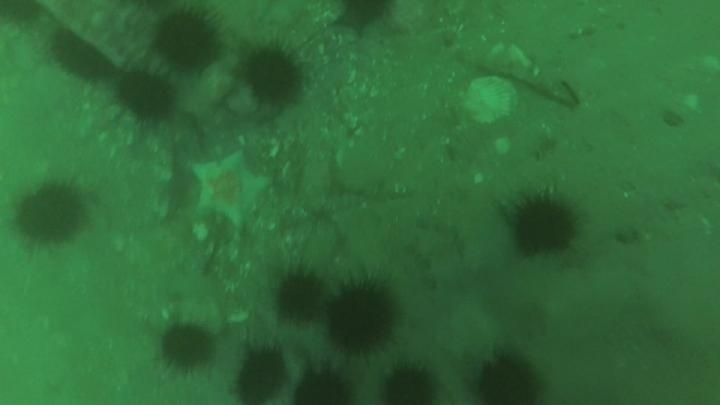echinus: (324, 281, 398, 355), (12, 178, 89, 248), (507, 190, 581, 259), (152, 10, 224, 73), (240, 43, 305, 107), (472, 349, 544, 405), (49, 27, 117, 83), (114, 68, 178, 123), (232, 344, 290, 404), (158, 321, 217, 373), (274, 270, 326, 321), (380, 361, 440, 404), (328, 1, 399, 37), (291, 365, 355, 404), (1, 1, 47, 27)
holothurian: (407, 221, 470, 291)
scallop: (461, 74, 519, 127)
starfish: (187, 148, 272, 230), (328, 1, 398, 38)
